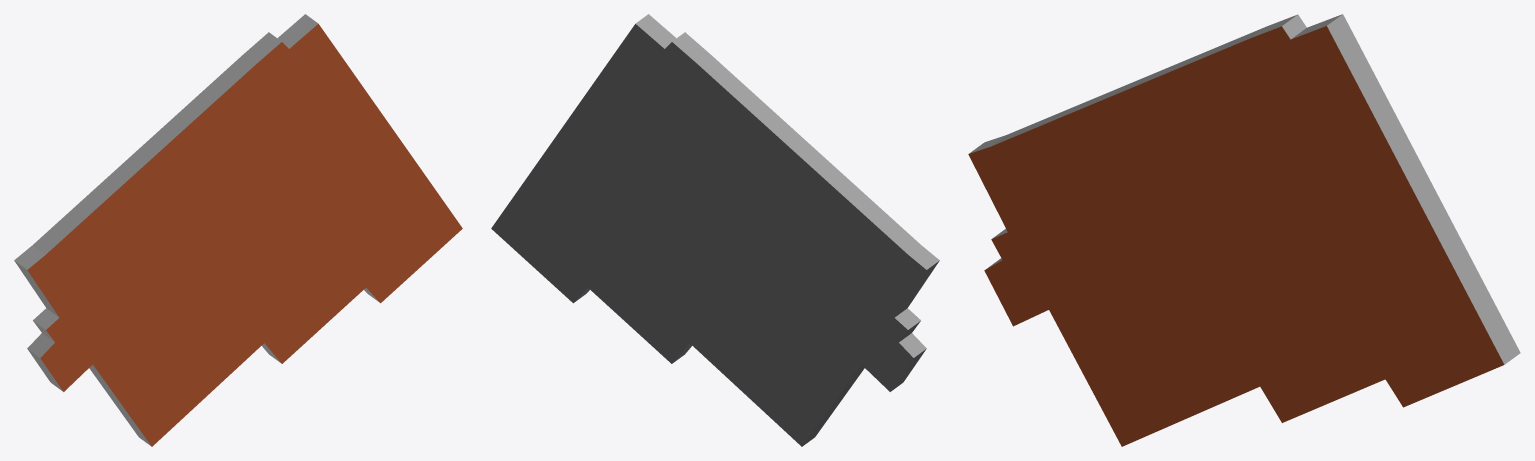
File: construction_0163_assumed_A_Grande_construcao_h6m.obj
The picture shows the model from 3 angles, left to right: view 1: azimuth 30°, elevation 25°; view 2: azimuth 150°, elevation 25°; view 3: azimuth 330°, elevation 25°; orthographic projection. The views are drawn at different scales.
Visible parts, largest first — view 1: construction_0163_assumed_A_Grande_construcao; view 2: construction_0163_assumed_A_Grande_construcao; view 3: construction_0163_assumed_A_Grande_construcao.
Part boxes in pixels (x1,y1,x2,y2): construction_0163_assumed_A_Grande_construcao: (14, 14, 462, 446); construction_0163_assumed_A_Grande_construcao: (491, 14, 939, 446); construction_0163_assumed_A_Grande_construcao: (968, 14, 1520, 446).
Size of the model in its own units: 115 by 96.13 by 6.
